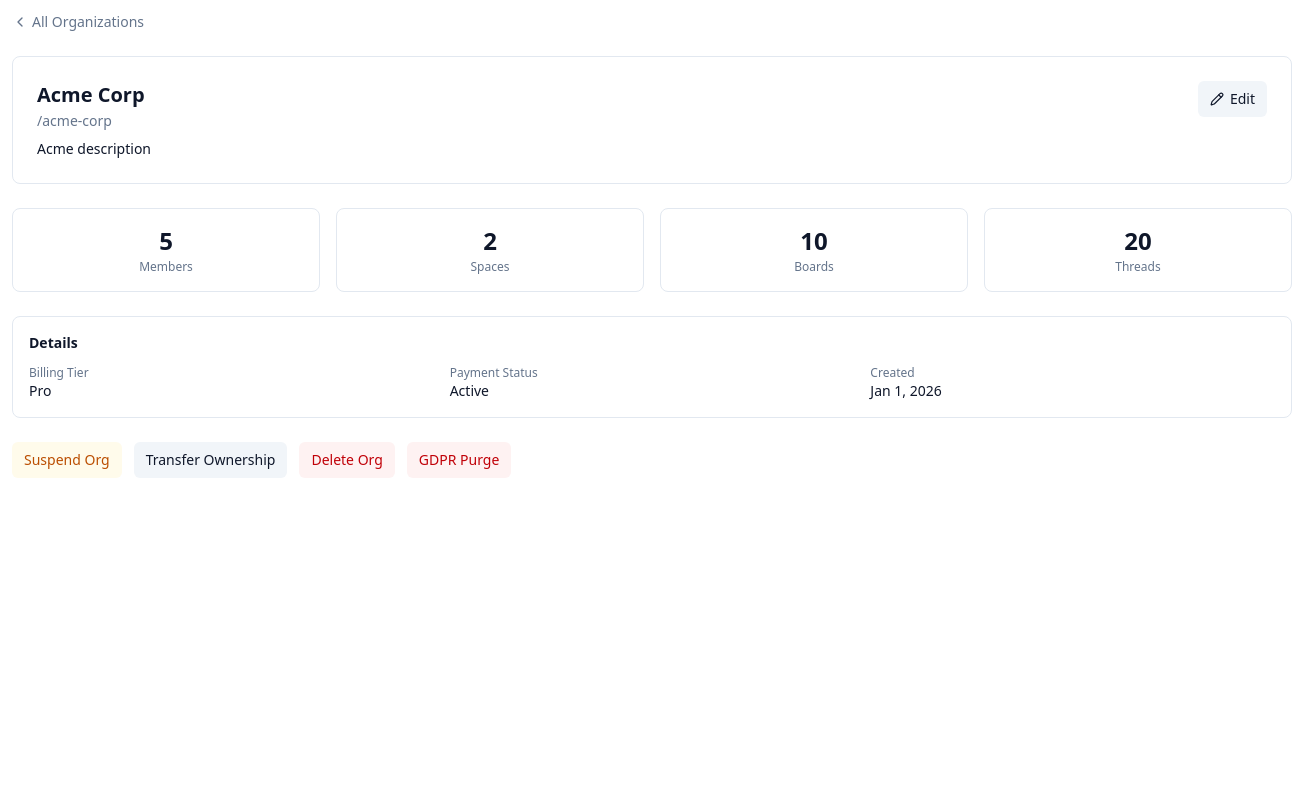
Test: OrgDetailAdmin › hides edit form on Cancel
Step 1. Click the button with test id "edit-org-btn" → [1232, 99], box [1198,81,1267,117]
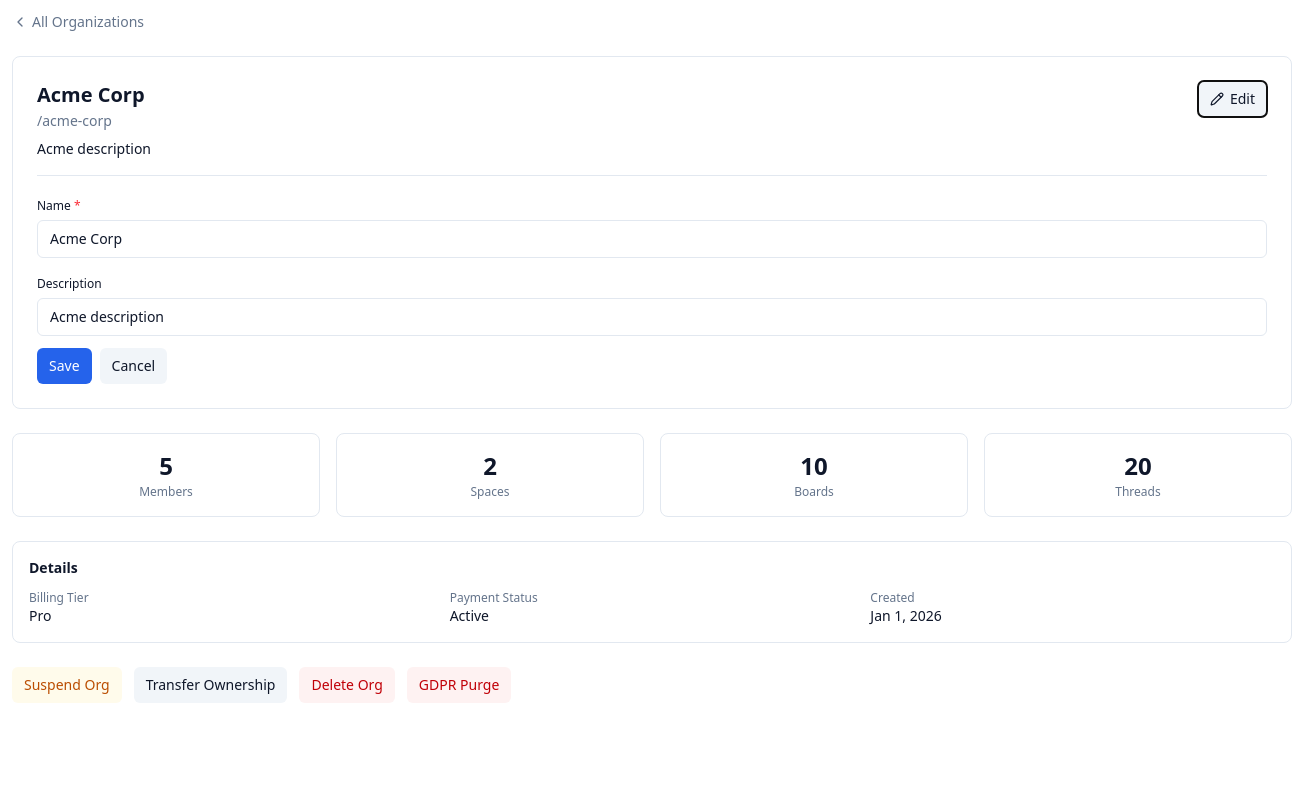
Step 2. Click the button with test id "edit-org-cancel" → [133, 366], box [100,348,167,384]
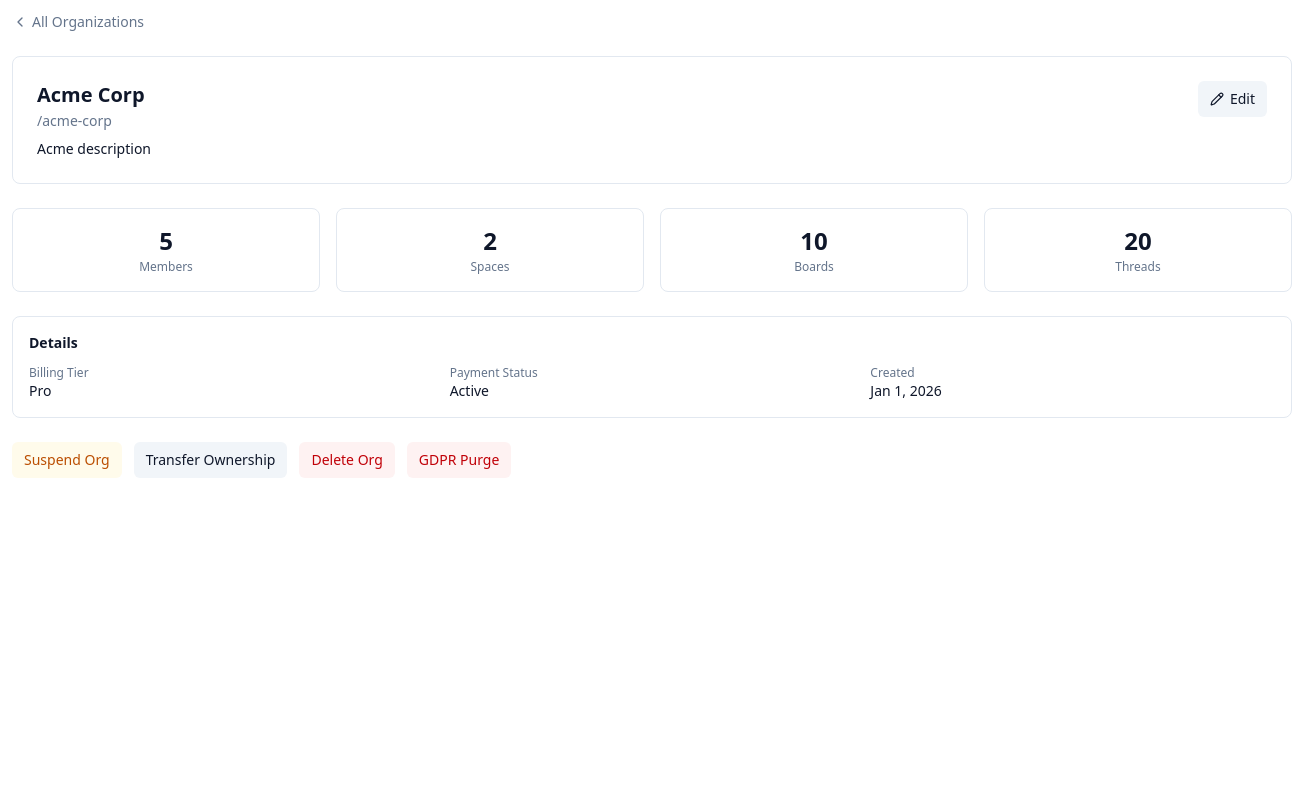
Now the element with test id "edit-org-form" is gone
